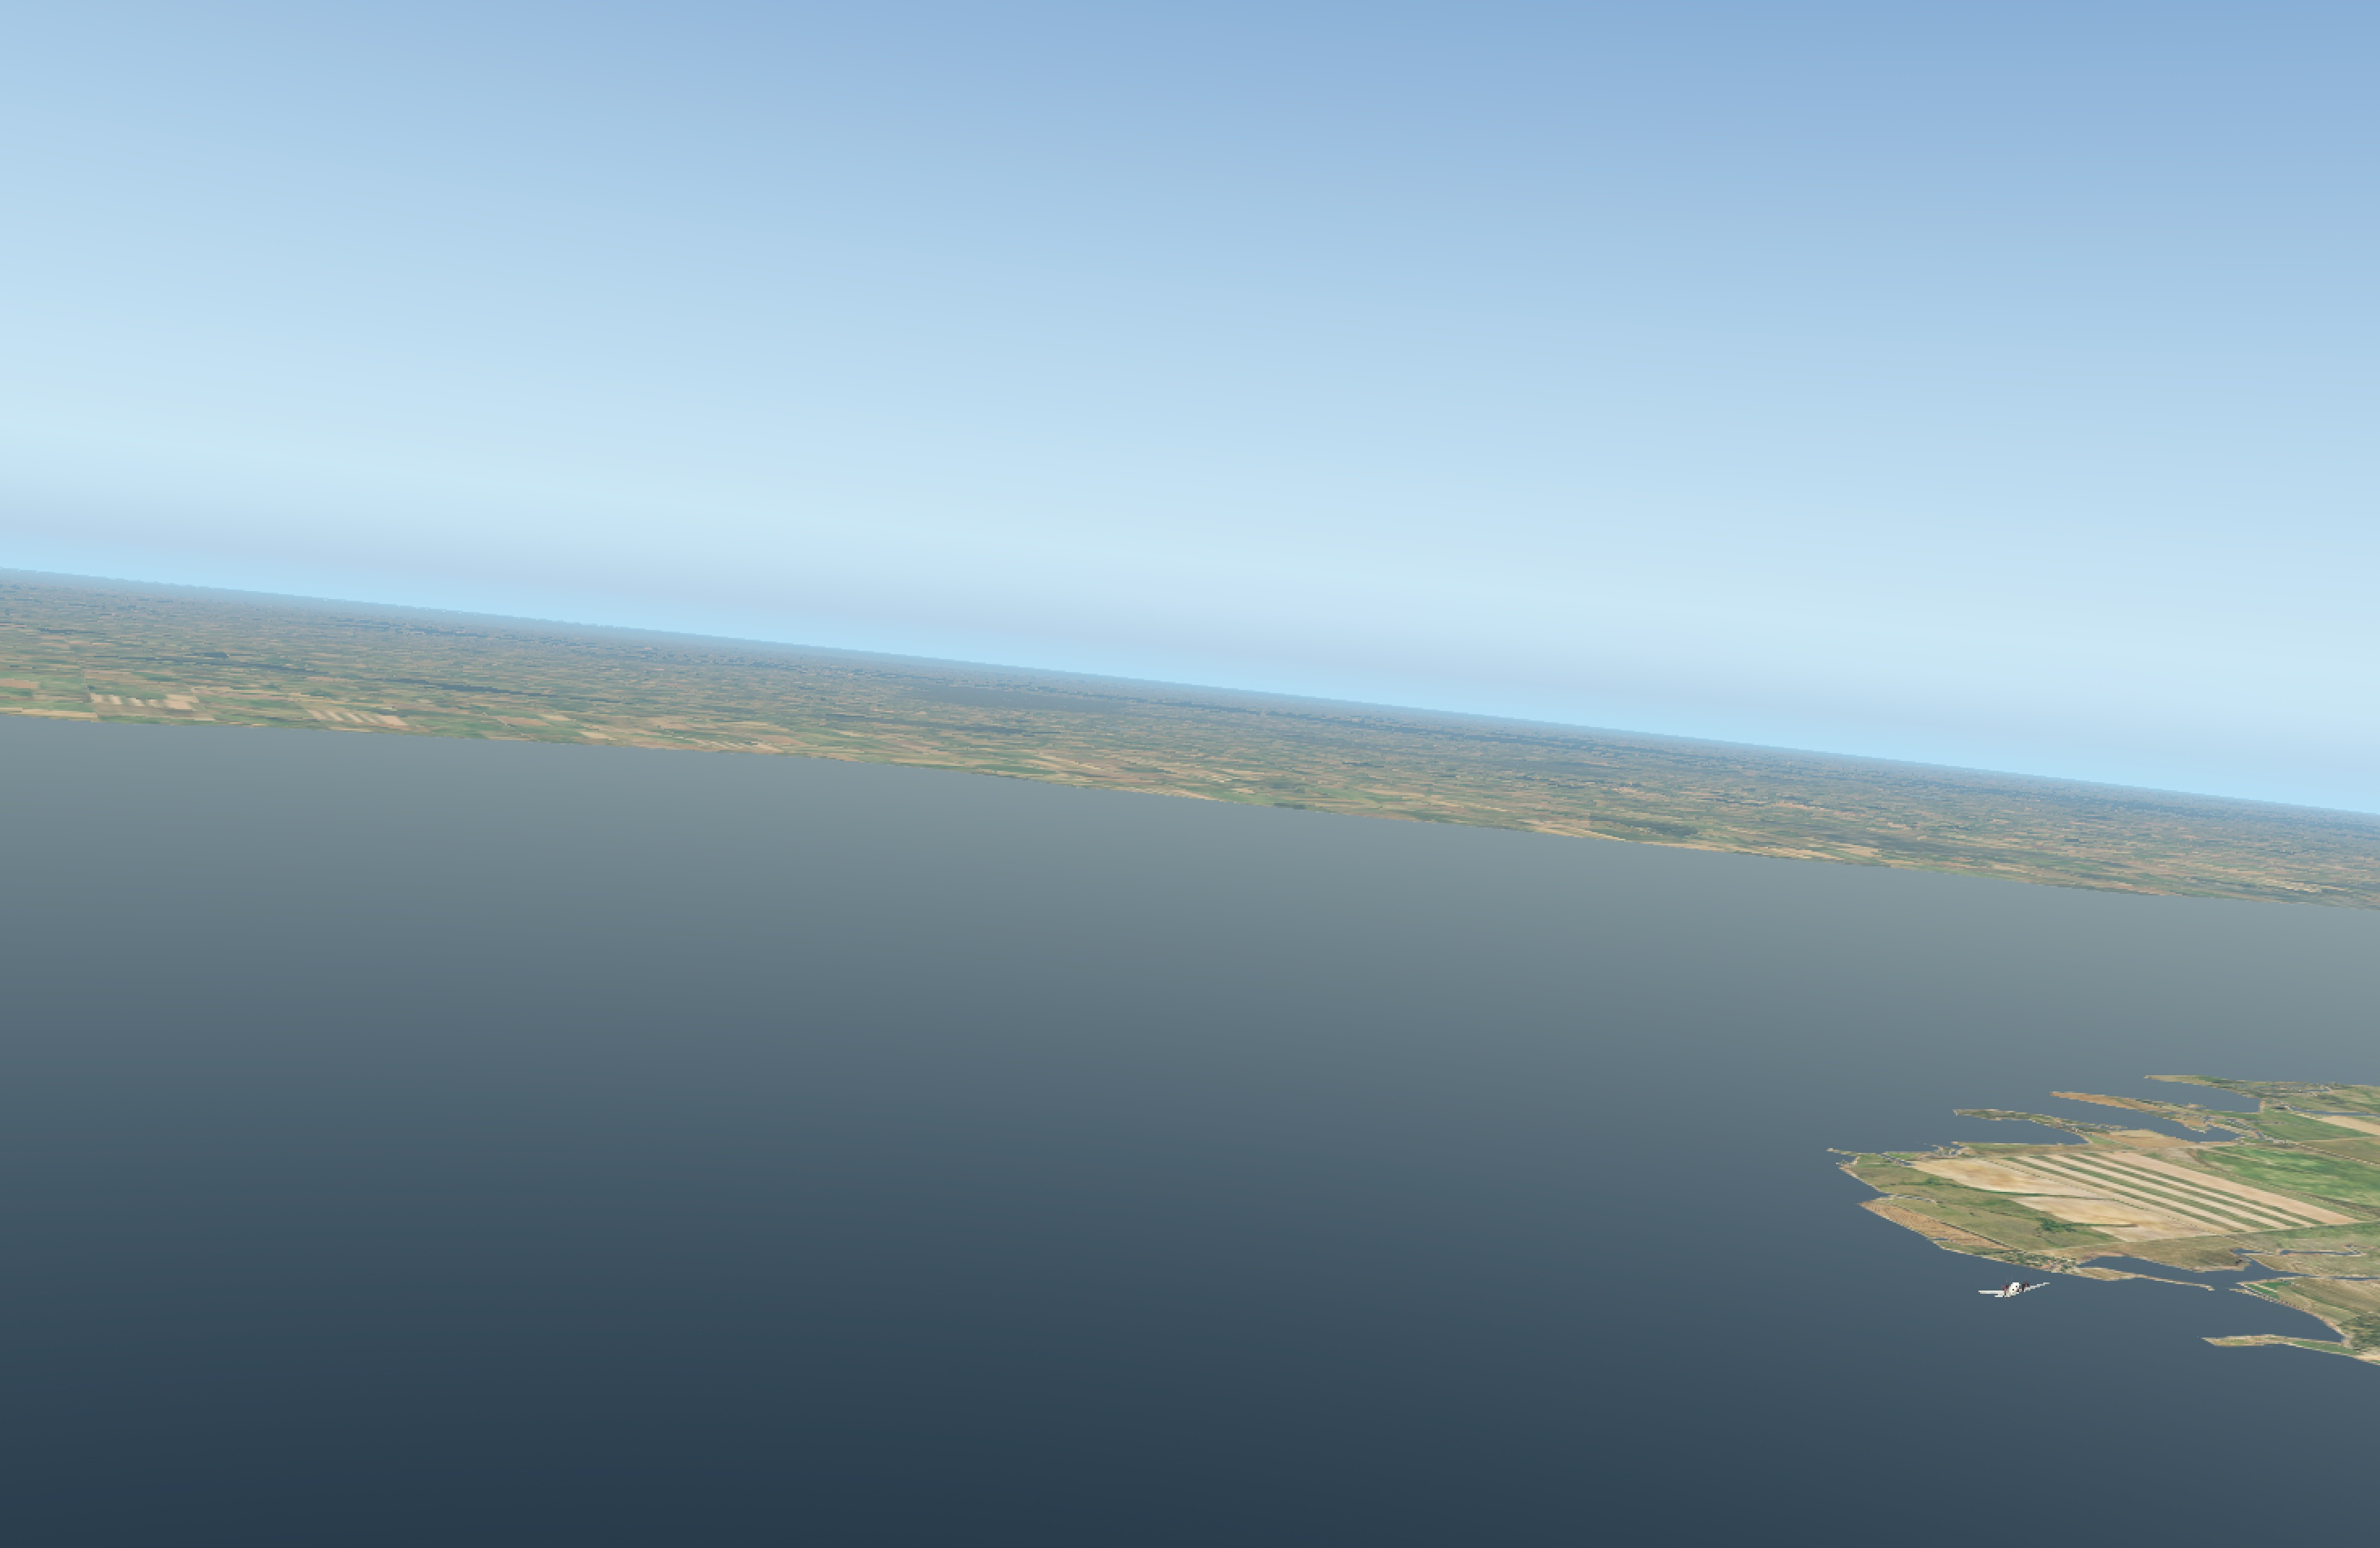aircraft: (1983, 1279, 2049, 1303)
